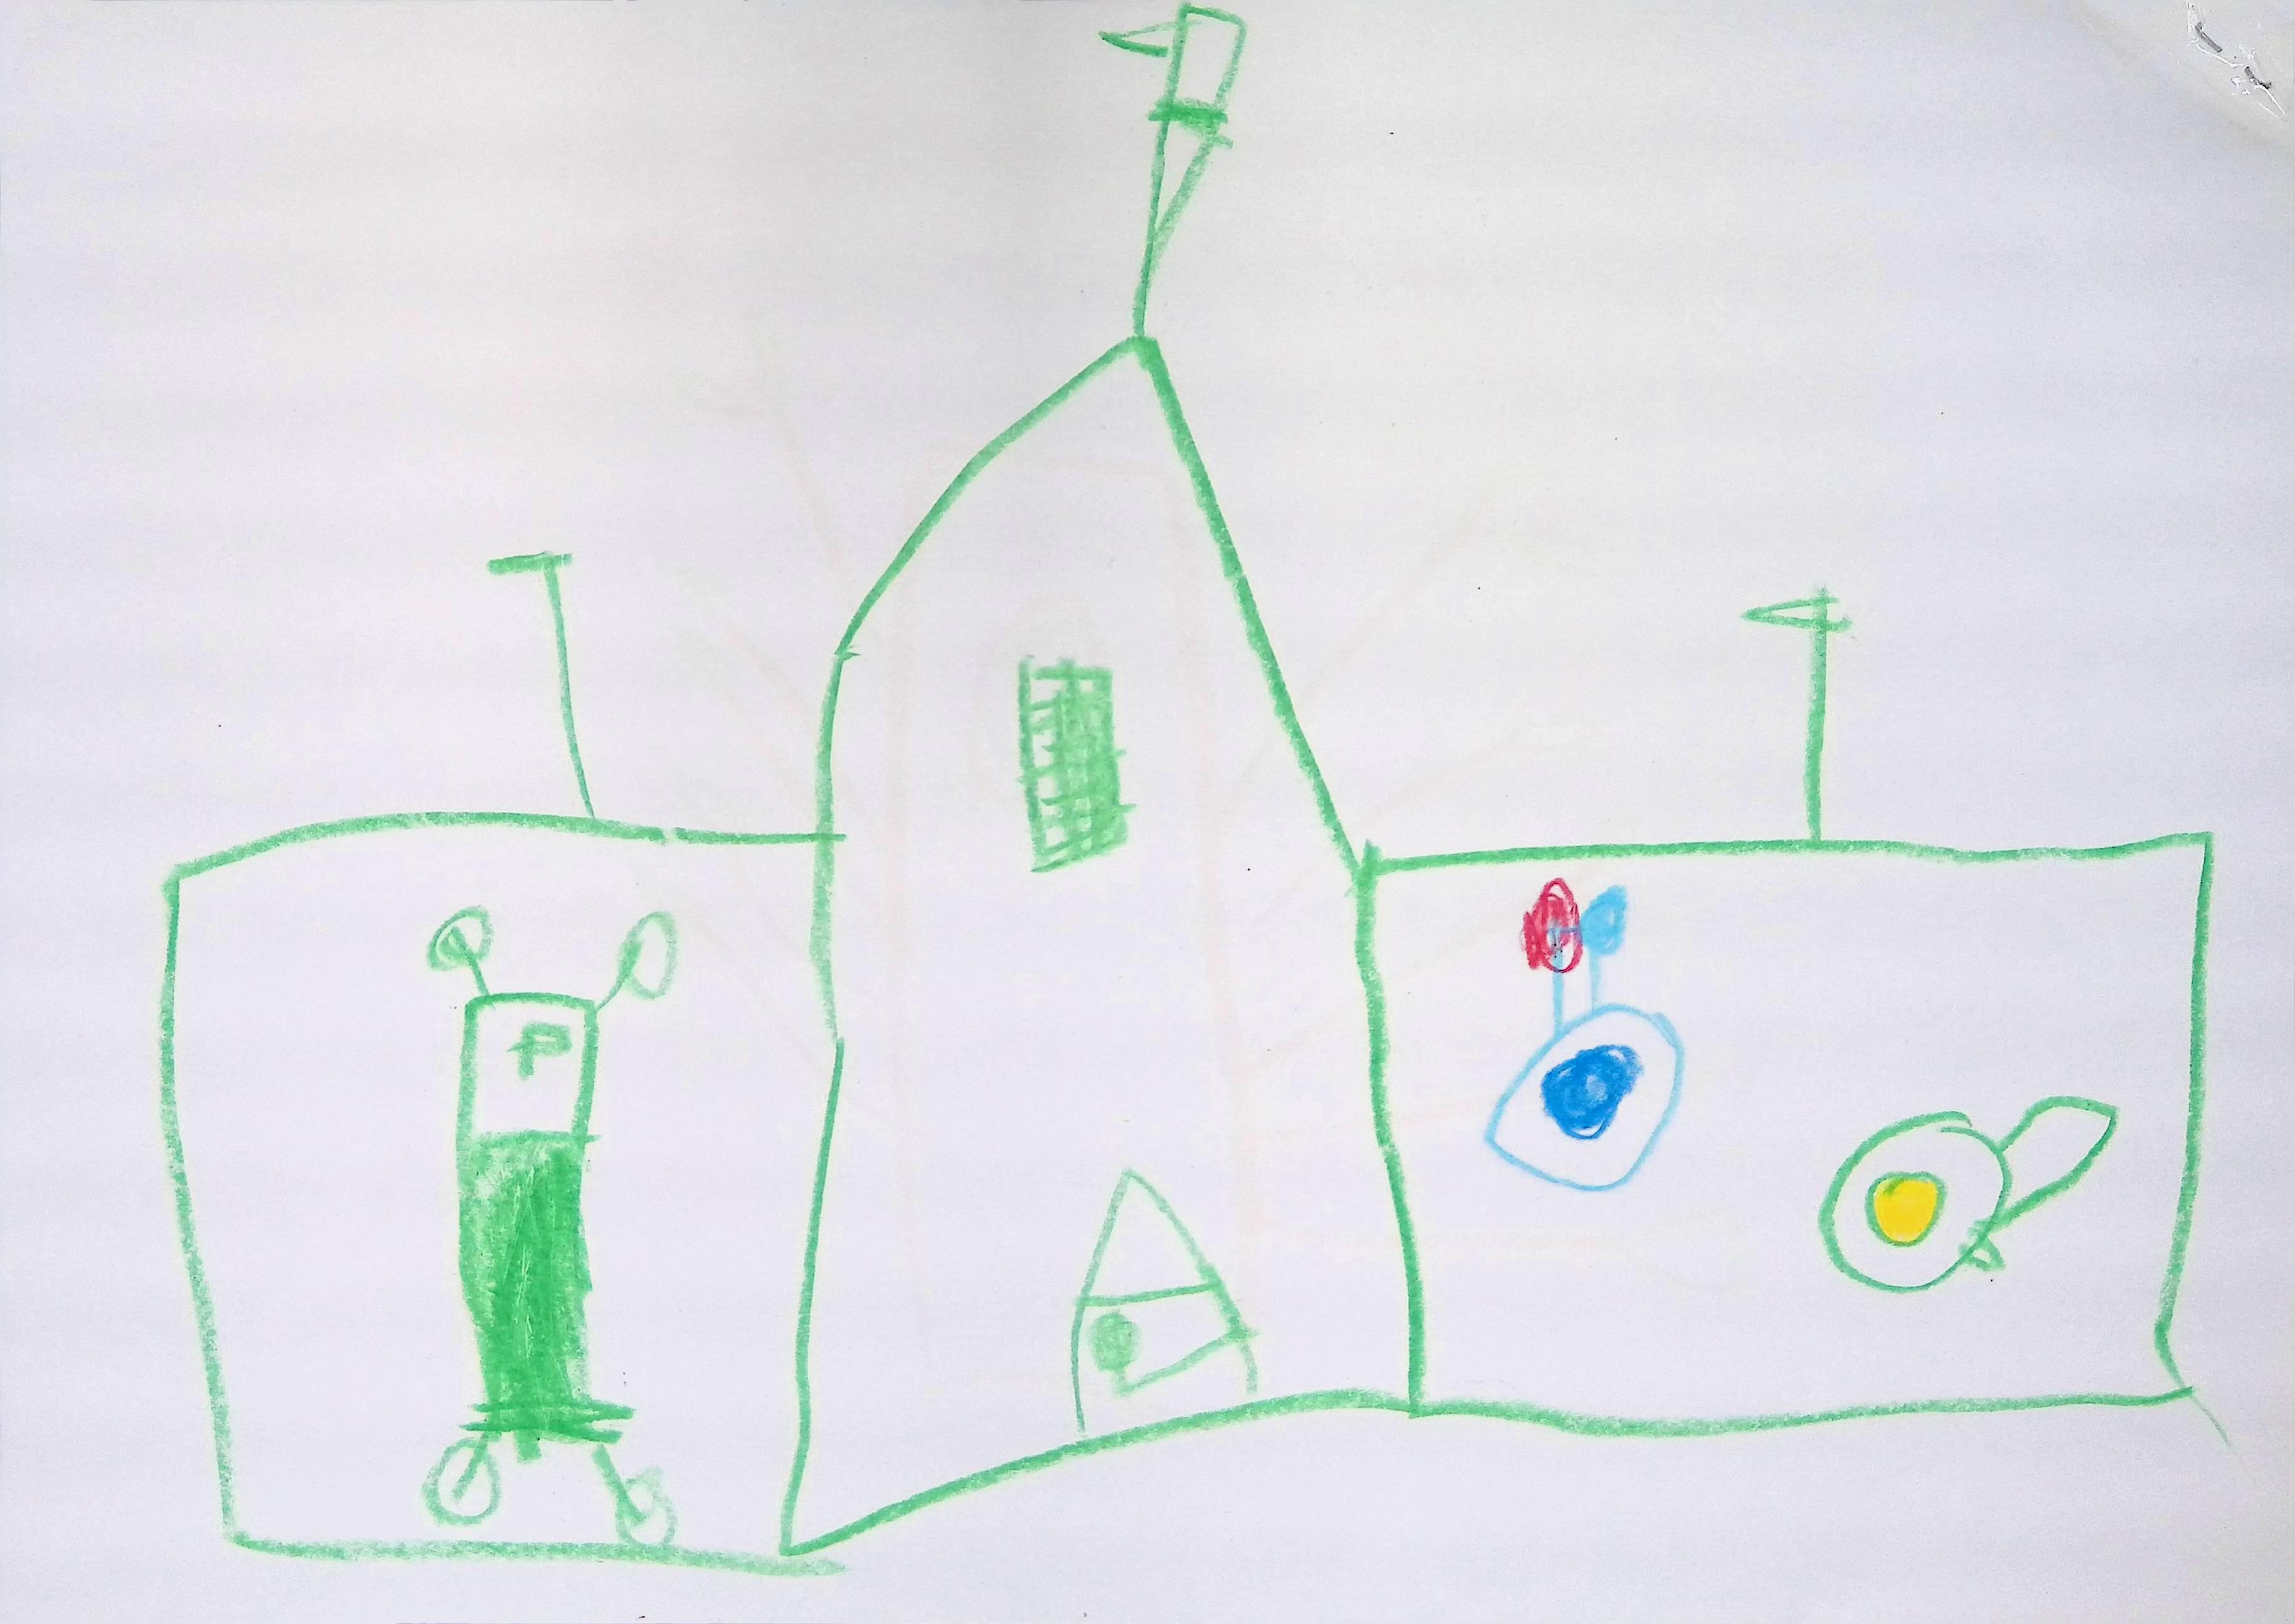door: (1070, 1171, 1256, 1438)
house: (162, 329, 2216, 1570)
wall: (796, 346, 1404, 1529)
window: (1017, 657, 1132, 872)
